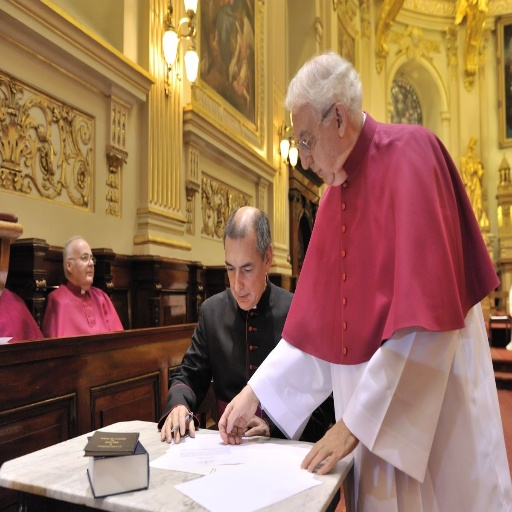hand: (296, 418, 357, 476), (215, 387, 258, 447), (156, 395, 193, 449), (243, 413, 270, 436)
